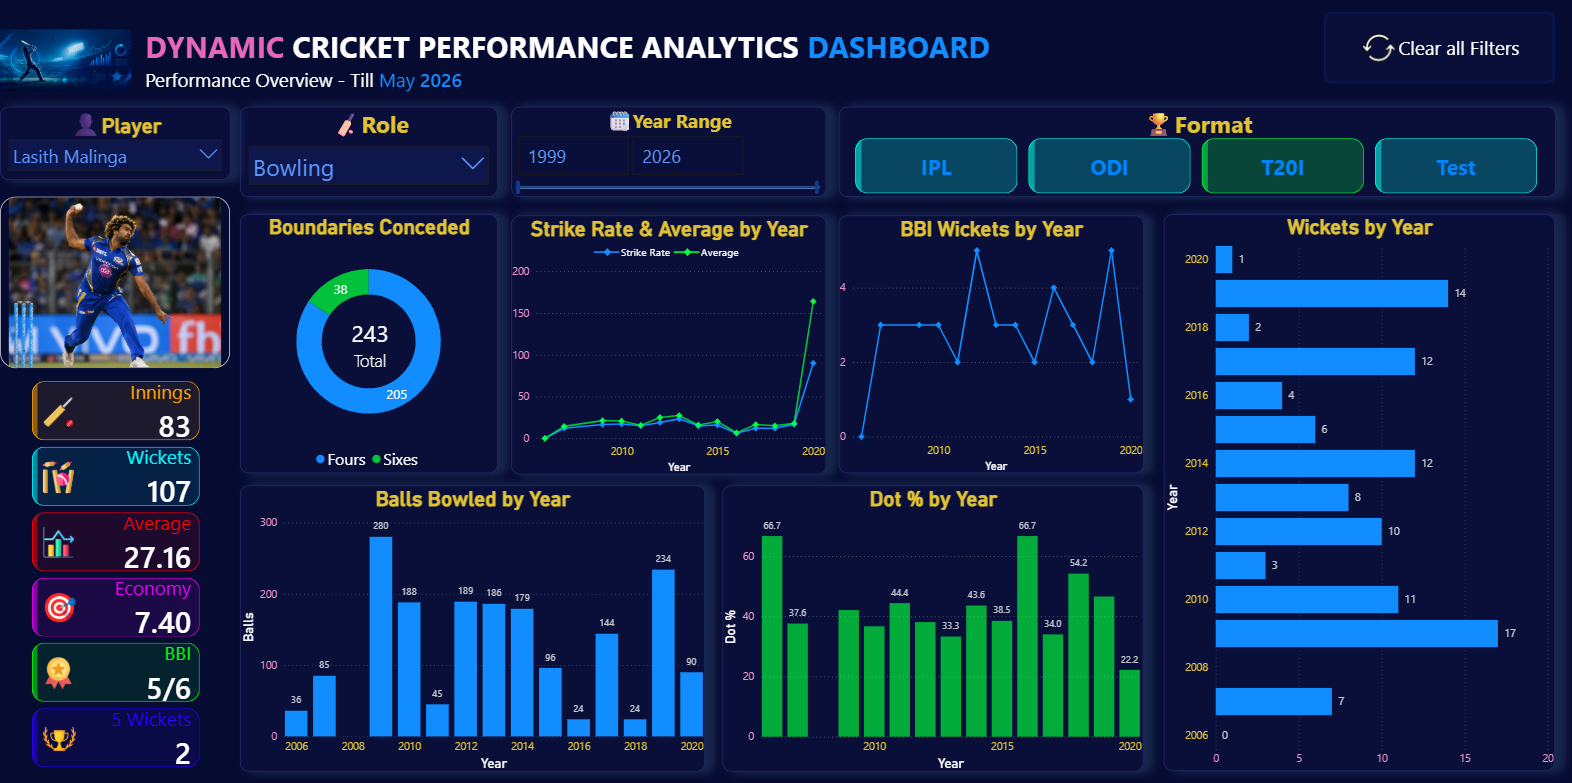

This screenshot's page, from the dashboard's own definition file:
{"tool":"powerbi","page":{"name":"Page 1","canvas":[2000,1000],"ordinal":0},"visuals":[{"type":"slicer","title":"🗓️Year Range","fields":{"Values":["Years.Year"]},"box":[648.6,138.1,399.7,114.5],"z":0},{"type":"donutChart","fields":{"Y":["Style.Display Boundaries Fours","Style.Display Boundaries Sixes"]},"box":[305.2,274.3,327,328.9],"z":1000},{"type":"advancedSlicerVisual","title":"🏆Format","fields":{"Values":["Formats.Format"]},"box":[1064.7,138.1,910.2,114.5],"z":2000},{"type":"areaChart","title":"Strike Rate & Average by Year","fields":{"Y":["Style.Display Strike Rate","Style.Display Average"],"Category":["Years.Year"]},"box":[648.6,276.2,399.7,328.9],"z":3000},{"type":"slicer","title":"👤Player","fields":{"Values":["Players.Player"]},"box":[0,138.1,292.5,92.7],"z":4000},{"type":"image","box":[0,252.4,292.1,217.5],"z":5000},{"type":"slicer","title":"🏏Role","fields":{"Values":["Style.Style"]},"box":[305.2,138.1,327,114.5],"z":6000},{"type":"lineChart","fields":{"Y":["Style.Display Best Score/BBI Wickets"],"Category":["Years.Year"]},"box":[1064.7,276.2,387,327],"z":7000},{"type":"barChart","fields":{"Category":["Years.Year"],"Y":["Style.Display Runs/Wickets by Year"]},"box":[1477.4,274.2,496.8,706.5],"z":8000},{"type":"cardVisual","fields":{"Data":["Style.Display Innings","Style.Display Runs/Wickets","Style.Display Average","Style.Display Strike Rate/Economy","Style.Display Best Score/BBI","Style.Display 50s&100s / 5Wickets"]},"box":[23.6,470.6,247.1,528.7],"z":9000},{"type":"cardVisual","fields":{"Data":["Style.Display Total Boundaries"]},"box":[407.4,387,124.1,105.6],"z":10000},{"type":"clusteredColumnChart","fields":{"Category":["Years.Year"],"Y":["Style.Display Balls"]},"box":[304.8,619.4,590,363],"z":11000},{"type":"columnChart","title":"Dot % by Year","fields":{"Category":["Years.Year"],"Y":["Style.Display Dot %"]},"box":[917.5,619.6,534.2,363.4],"z":12000},{"type":"image","box":[0,18.3,166.7,120],"z":13000},{"type":"textbox","box":[180,18.3,1090,146.7],"z":14000},{"type":"actionButton","box":[1680.4,17.4,293.5,91.3],"z":15000}]}

Visuals, with their boxes in screenshot pixels (x1, y1, x2, y2), scaled from the page's 2000x1000 canvas onto the 1572x783 screenshot:
"🗓️Year Range" slicer: <box>510,108,824,198</box>
donutChart - Style.Display Boundaries Fours x Style.Display Boundaries Sixes: <box>240,215,497,472</box>
"🏆Format" advancedSlicerVisual: <box>837,108,1552,198</box>
"Strike Rate & Average by Year" areaChart: <box>510,216,824,474</box>
"👤Player" slicer: <box>0,108,230,181</box>
image: <box>0,198,230,368</box>
"🏏Role" slicer: <box>240,108,497,198</box>
lineChart - Style.Display Best Score/BBI Wickets x Years.Year: <box>837,216,1141,472</box>
barChart - Years.Year x Style.Display Runs/Wickets by Year: <box>1161,215,1552,768</box>
cardVisual - Style.Display Innings x Style.Display Runs/Wickets: <box>19,368,213,782</box>
cardVisual - Style.Display Total Boundaries: <box>320,303,418,386</box>
clusteredColumnChart - Years.Year x Style.Display Balls: <box>240,485,703,769</box>
"Dot % by Year" columnChart: <box>721,485,1141,770</box>
image: <box>0,14,131,108</box>
textbox: <box>141,14,998,129</box>
actionButton: <box>1321,14,1551,85</box>
